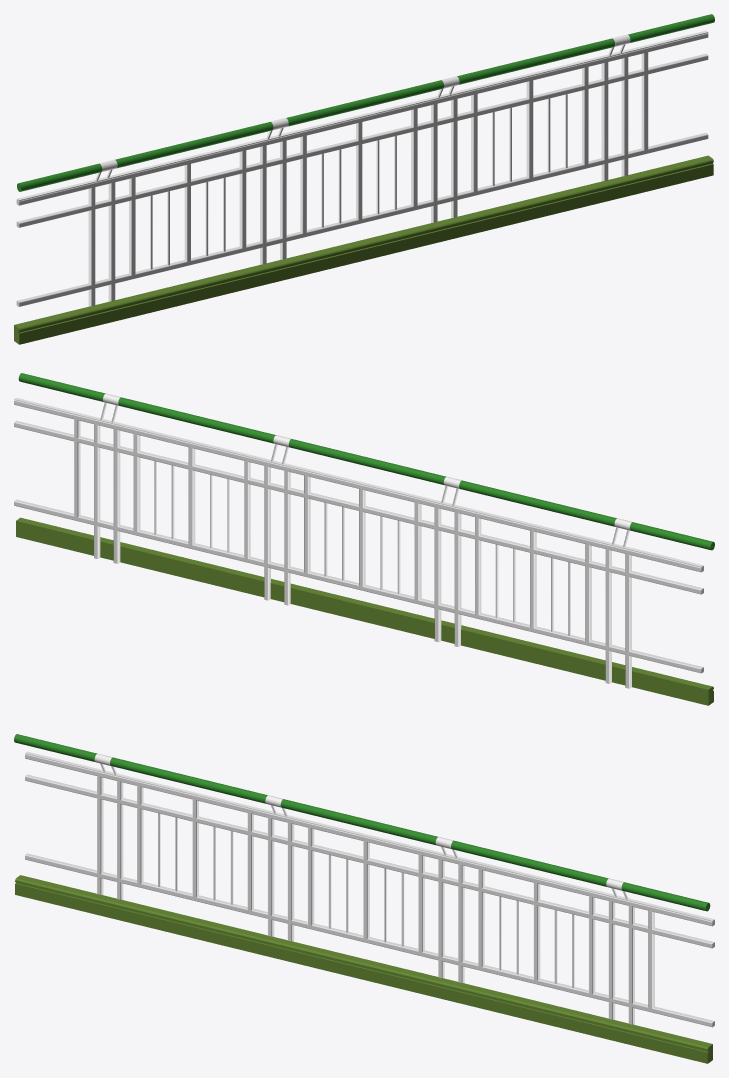
Rendered from balcony.obj.
3 views of the same model, one above another, from view 1: azimuth 30°, elevation 25°; view 2: azimuth 150°, elevation 25°; view 3: azimuth 330°, elevation 25° (orthographic).
Visible parts, largest first — view 1: Rectangle1_6, Cylinder01_4, Rectangle2_7, Rectangle3_8, Rectangle0_5, Rectangle4_9, Rectangle5_10, Rectangle6_11, Rectangl27_32, Rectangl30_35, Rectangl16_21, Rectangl18_23 (+12 smaller); view 2: Rectangle1_6, Cylinder01_4, Rectangle2_7, Rectangle3_8, Rectangle0_5, Rectangle4_9, Rectangle6_11, Rectangl17_22, Rectangl18_23, Rectangl16_21, Rectangle5_10, Rectangl27_32 (+12 smaller); view 3: Rectangle1_6, Cylinder01_4, Rectangle2_7, Rectangle3_8, Rectangle0_5, Rectangle4_9, Rectangle6_11, Rectangl17_22, Rectangl18_23, Rectangle5_10, Rectangl15_20, Rectangl16_21 (+12 smaller).
Part boxes in pixels (bbox=[...]): Rectangle1_6: bbox=[14, 155, 713, 344]; Cylinder01_4: bbox=[17, 14, 714, 191]; Rectangle2_7: bbox=[16, 53, 708, 227]; Rectangle3_8: bbox=[16, 133, 708, 306]; Rectangle0_5: bbox=[16, 33, 708, 205]; Rectangle4_9: bbox=[17, 30, 708, 200]; Rectangle5_10: bbox=[621, 55, 628, 176]; Rectangle6_11: bbox=[601, 60, 608, 181]; Rectangl27_32: bbox=[88, 185, 95, 306]; Rectangl30_35: bbox=[108, 181, 115, 301]; Rectangl16_21: bbox=[451, 97, 457, 218]; Rectangl18_23: bbox=[260, 144, 266, 264]; Rectangle1_6: bbox=[16, 517, 713, 705]; Cylinder01_4: bbox=[18, 373, 714, 550]; Rectangle2_7: bbox=[14, 420, 703, 594]; Rectangle3_8: bbox=[14, 499, 703, 673]; Rectangle0_5: bbox=[14, 400, 703, 572]; Rectangle4_9: bbox=[14, 397, 703, 567]; Rectangle6_11: bbox=[113, 427, 120, 563]; Rectangl17_22: bbox=[434, 505, 441, 642]; Rectangl18_23: bbox=[454, 512, 461, 646]; Rectangl16_21: bbox=[264, 464, 270, 600]; Rectangle5_10: bbox=[94, 423, 100, 558]; Rectangl27_32: bbox=[625, 553, 631, 688]; Rectangle1_6: bbox=[15, 875, 712, 1063]; Cylinder01_4: bbox=[14, 734, 710, 911]; Rectangle2_7: bbox=[25, 774, 714, 948]; Rectangle3_8: bbox=[25, 853, 714, 1027]; Rectangle0_5: bbox=[25, 754, 714, 926]; Rectangle4_9: bbox=[25, 751, 714, 921]; Rectangle6_11: bbox=[608, 899, 615, 1019]; Rectangl17_22: bbox=[287, 821, 294, 941]; Rectangl18_23: bbox=[267, 816, 274, 936]; Rectangle5_10: bbox=[628, 904, 634, 1024]; Rectangl15_20: bbox=[438, 858, 444, 978]; Rectangl16_21: bbox=[458, 862, 464, 983].
Size of the model in its own units: 4535 by 1003 by 104.
